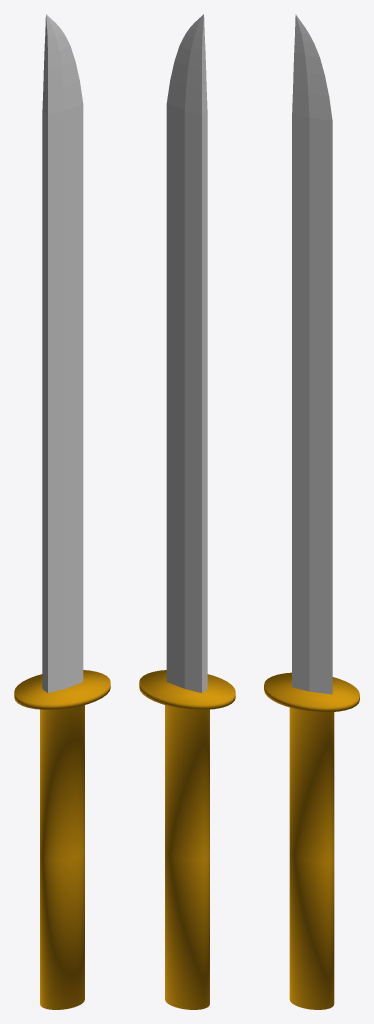
The model's file is Katana.fbx.
The picture shows the model from 3 angles, left to right: view 1: azimuth 30°, elevation 25°; view 2: azimuth 150°, elevation 25°; view 3: azimuth 330°, elevation 25°; orthographic projection.
Parts seen in each view (by area): view 1: Cylinder; view 2: Cylinder; view 3: Cylinder.
Boxes of the visible parts, left/top/right/bottom form: Cylinder: left=14, top=14, right=110, bottom=1009; Cylinder: left=139, top=14, right=235, bottom=1009; Cylinder: left=264, top=14, right=359, bottom=1009.
Bounding box in the file's own units: 26.33 × 280 × 18.83.
